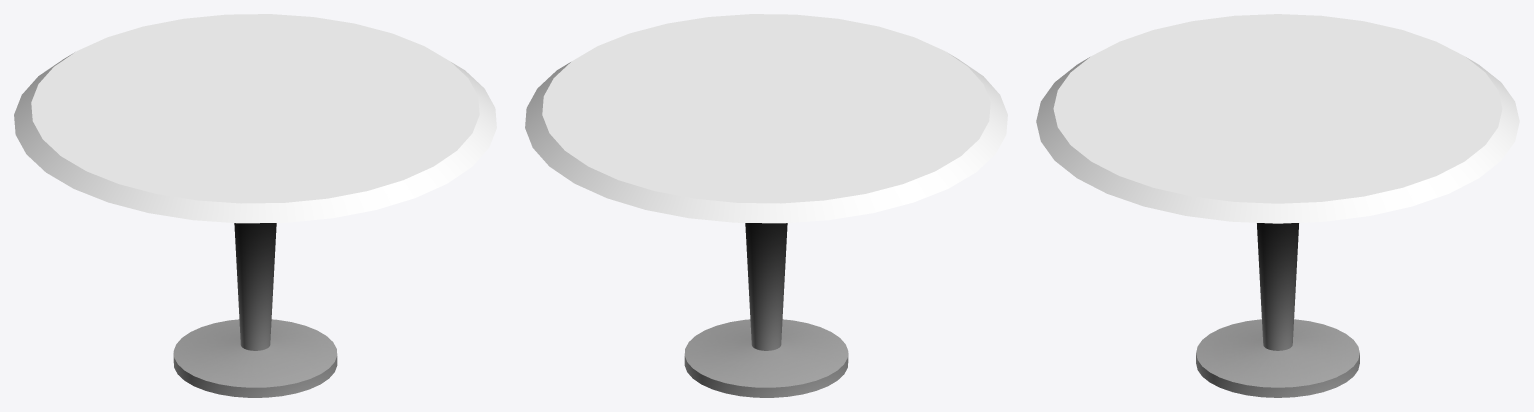
Rendered from Table communal.fbx.
3 renders of one model, left to right at view 1: azimuth 30°, elevation 25°; view 2: azimuth 150°, elevation 25°; view 3: azimuth 270°, elevation 25°, orthographic.
Parts seen in each view (by area): view 1: Table communal; view 2: Table communal; view 3: Table communal.
Part boxes in pixels (x1,y1,x2,y2): Table communal: [14, 14, 496, 397]; Table communal: [525, 14, 1007, 397]; Table communal: [1036, 14, 1519, 397].
Size of the model in its own units: 1.36 by 0.792 by 1.36.
